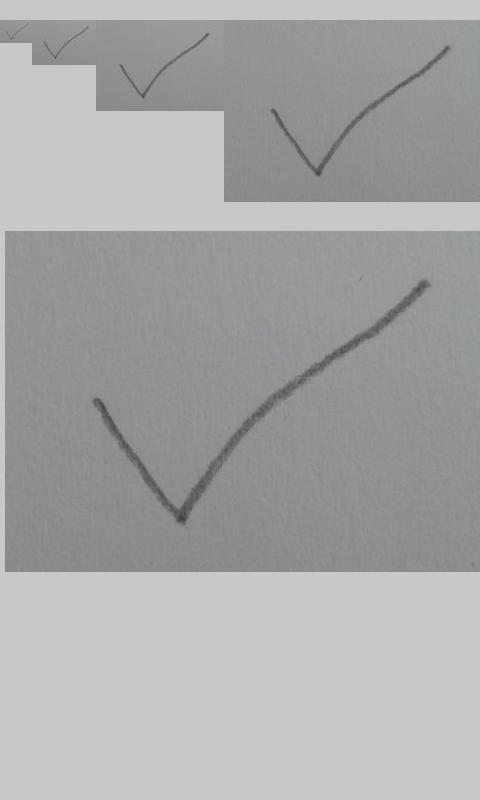check_box: (92, 280, 429, 526), (270, 45, 450, 177), (120, 33, 210, 99), (43, 26, 88, 59), (6, 23, 27, 40)
